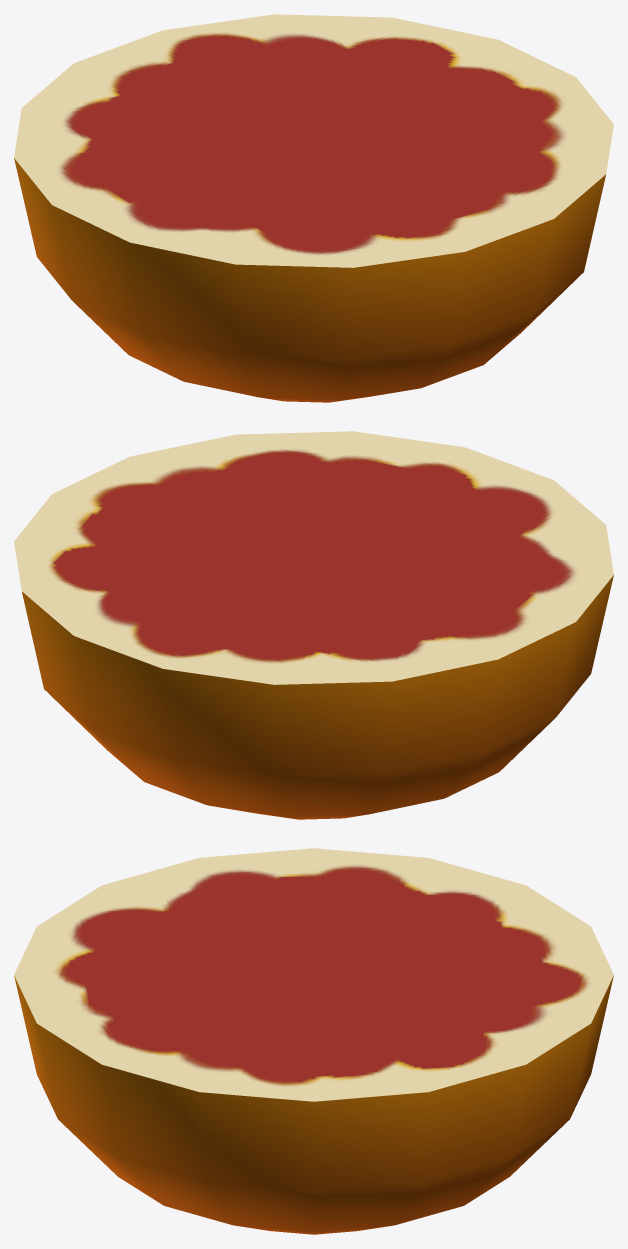
Rendered from Grapefruit_Slice_01.glb.
The picture shows the model from 3 angles, top to bottom: view 1: azimuth 30°, elevation 25°; view 2: azimuth 150°, elevation 25°; view 3: azimuth 270°, elevation 25°; orthographic projection.
Visible parts, largest first — view 1: Grapefruit_Slice_01; view 2: Grapefruit_Slice_01; view 3: Grapefruit_Slice_01.
Part boxes in pixels (<box>): Grapefruit_Slice_01: <box>14,14,613,402</box>; Grapefruit_Slice_01: <box>14,431,613,819</box>; Grapefruit_Slice_01: <box>14,848,613,1234</box>.
Bounding box in the file's own units: 0.3308 × 0.1396 × 0.3308.
1 material, 1 textured.
